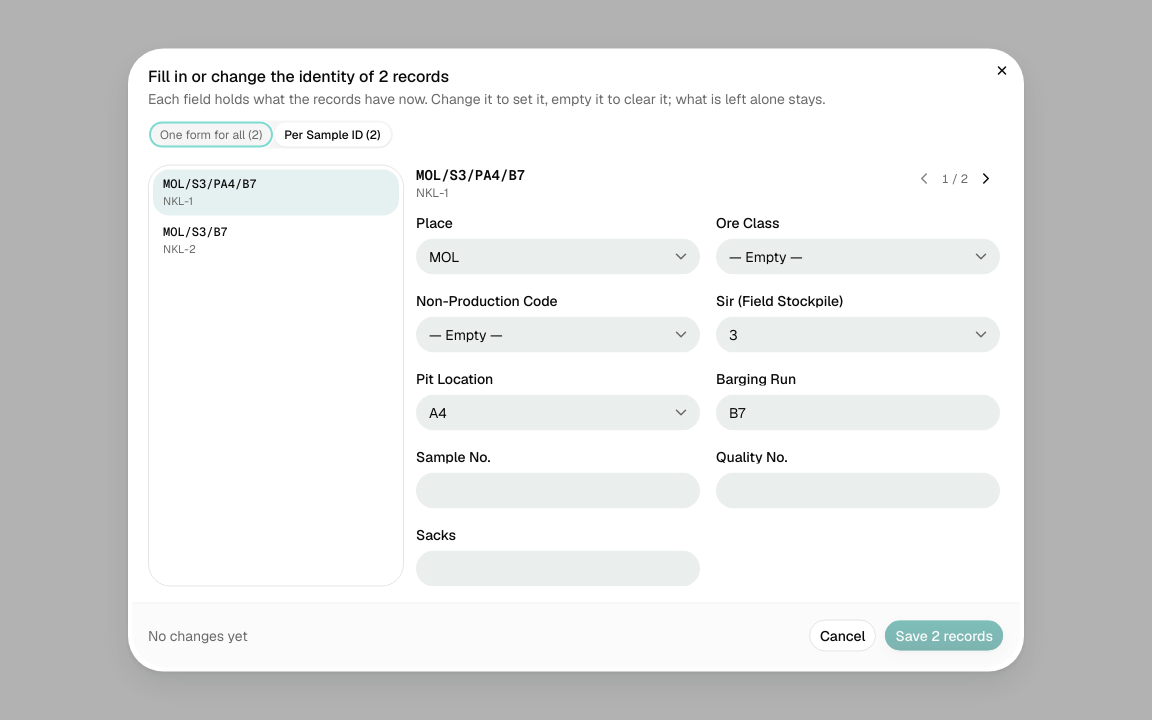
BulkIdentityDialog › per Sample ID › lists the Sample IDs and draws only the chosen one's form
Expected: the number of dropdowns is 5, [416,238,700,274]; [716,238,1000,274]; [416,316,700,352]; [716,316,1000,352]; [416,394,700,430]
Expected: the dropdown named "Pit Location" reads "A4", [416,394,700,430]
What coordinates should you click on to do the following:
click the button "MOL/S3/B7 NKL-2"
I would click on:
 (276, 240)
Its box is [153,217,399,263].
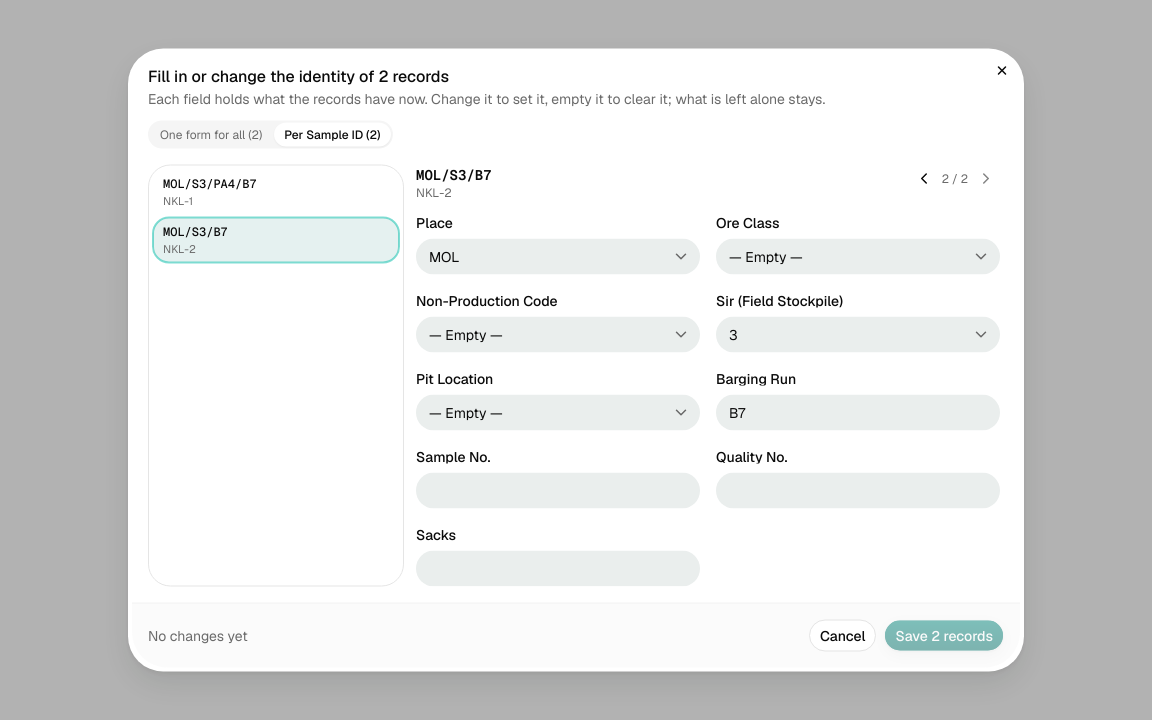
Expected: the dropdown named "Pit Location" reads "— Empty —", [416,394,700,430]
What coordinates should you click on to do the following:
click the button named "Previous"
I would click on:
 (924, 178)
Its box is [910,164,938,192].
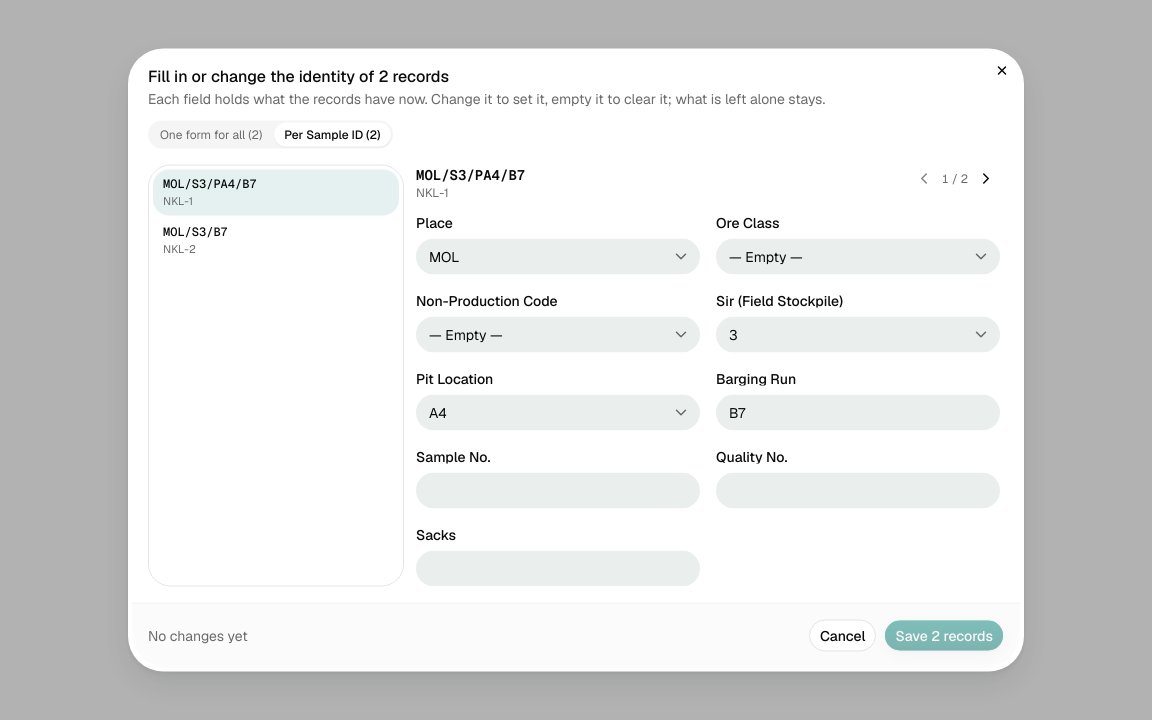
Expected: the element "MOL/S3/PA4/B7" is shown, [416,164,1004,586]
Expected: the button named "Previous" is disabled, [910,164,938,192]
